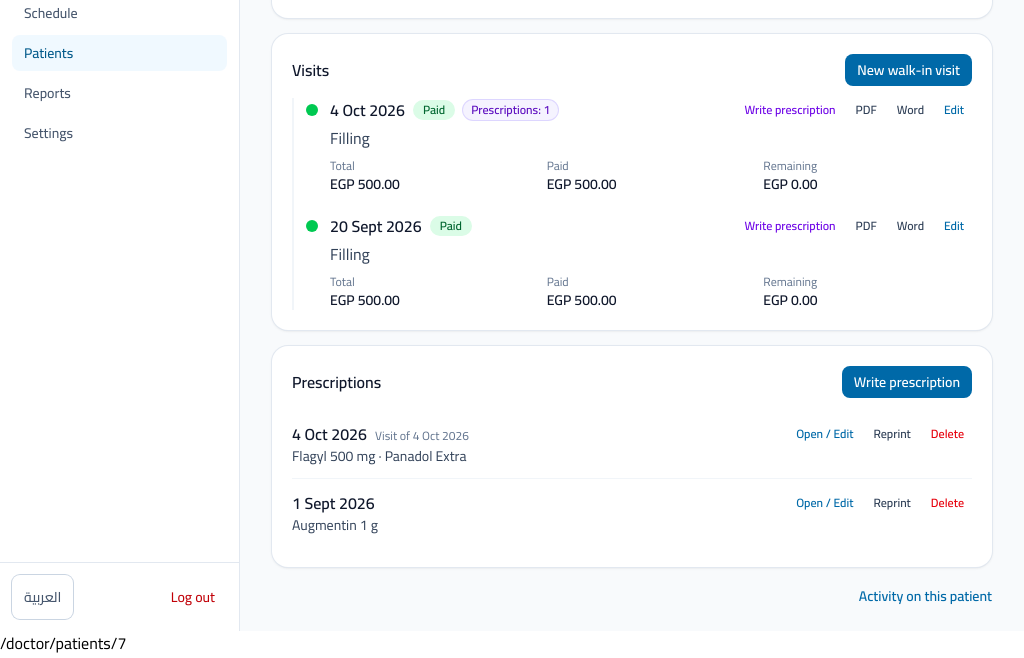
Scenario: PatientDetails: prescriptions › does not delete when the confirmation is cancelled
(page scrolled)
Click the button with aria-label "Delete the prescription of 1 Sept 2026" at point(947, 503), box [923,491,972,515]
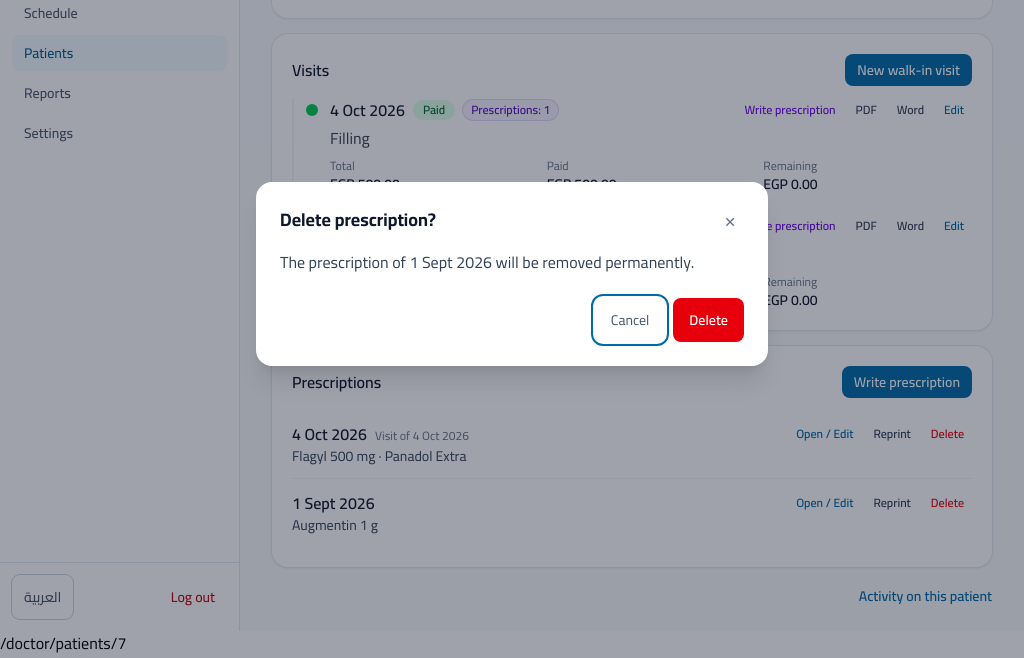
Click the button "Cancel" at point(630, 320), box [595,298,665,342]
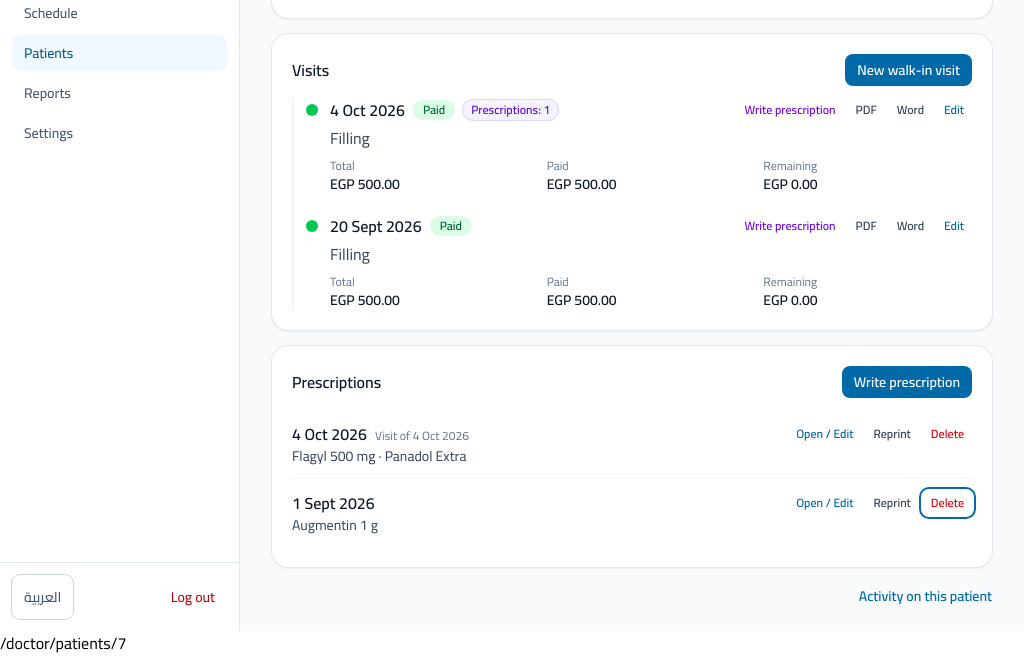
Check: the dialog is gone
